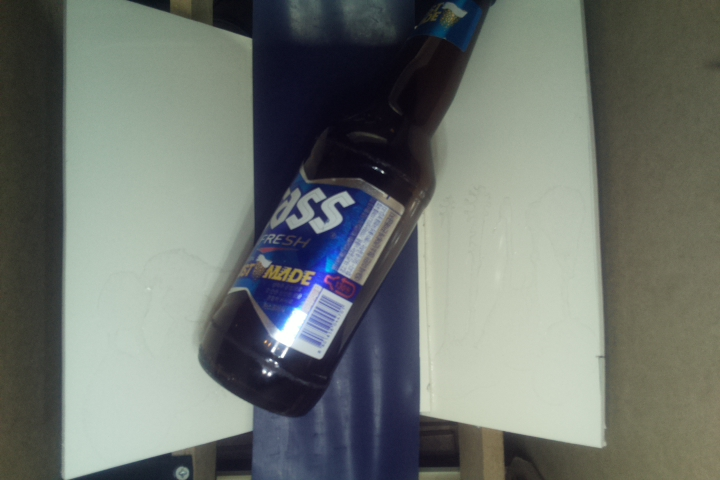makju: (192, 1, 503, 419)
